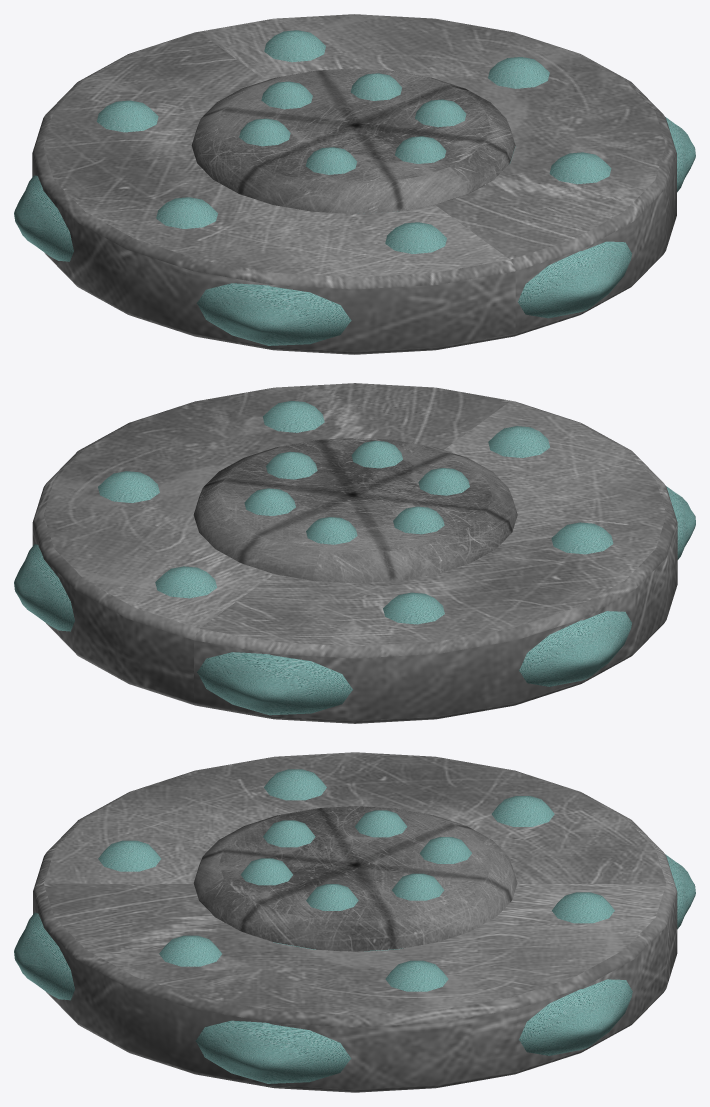
The model's file is Disc_4.FBX.
3 renders of one model, top to bottom at view 1: azimuth 30°, elevation 25°; view 2: azimuth 150°, elevation 25°; view 3: azimuth 270°, elevation 25°, orthographic.
Visible parts, largest first — view 1: Outer_Disc, Inner_Disc, Outer_Lamp_011, Outer_Lamp_010, Outer_Lamp_012, Top_Lamp_015, Top_Lamp_016, Top_Lamp_017, Top_Lamp_018, Top_Lamp_013, Top_Lamp_014, Top_Lamp_022 (+6 smaller); view 2: Outer_Disc, Inner_Disc, Outer_Lamp_015, Outer_Lamp_012, Outer_Lamp_014, Top_Lamp_014, Top_Lamp_017, Top_Lamp_013, Top_Lamp_015, Top_Lamp_018, Top_Lamp_016, Top_Lamp_021 (+6 smaller); view 3: Outer_Disc, Inner_Disc, Outer_Lamp_013, Outer_Lamp_014, Outer_Lamp_010, Top_Lamp_014, Top_Lamp_013, Top_Lamp_018, Top_Lamp_016, Top_Lamp_017, Top_Lamp_015, Top_Lamp_020 (+6 smaller).
Boxes of the visible parts, x1,y1,x2,y2 form: Outer_Disc: (32, 14, 676, 354); Inner_Disc: (191, 68, 515, 213); Outer_Lamp_011: (196, 283, 351, 345); Outer_Lamp_010: (517, 241, 632, 318); Outer_Lamp_012: (14, 175, 73, 261); Top_Lamp_015: (96, 100, 158, 132); Top_Lamp_016: (264, 30, 325, 62); Top_Lamp_017: (488, 57, 549, 88); Top_Lamp_018: (549, 152, 611, 184); Top_Lamp_013: (385, 222, 446, 253); Top_Lamp_014: (156, 197, 217, 228); Top_Lamp_022: (239, 118, 290, 146); Outer_Disc: (32, 383, 677, 723); Inner_Disc: (193, 437, 517, 583); Outer_Lamp_015: (197, 652, 352, 715); Outer_Lamp_012: (519, 611, 631, 686); Outer_Lamp_014: (14, 544, 74, 631); Top_Lamp_014: (551, 522, 613, 554); Top_Lamp_017: (98, 471, 159, 502); Top_Lamp_013: (488, 426, 549, 457); Top_Lamp_015: (383, 592, 444, 624); Top_Lamp_018: (263, 401, 324, 432); Top_Lamp_016: (155, 566, 216, 598); Top_Lamp_021: (266, 451, 317, 479); Outer_Disc: (33, 752, 677, 1092); Inner_Disc: (193, 806, 517, 951); Outer_Lamp_013: (195, 1020, 351, 1083); Outer_Lamp_014: (519, 979, 632, 1055); Outer_Lamp_010: (14, 912, 74, 1000); Top_Lamp_014: (264, 769, 326, 800); Top_Lamp_013: (98, 840, 160, 871); Top_Lamp_018: (159, 935, 221, 966); Top_Lamp_016: (552, 892, 614, 923); Top_Lamp_017: (385, 960, 448, 991); Top_Lamp_015: (491, 796, 554, 826); Top_Lamp_020: (392, 873, 444, 900).
Size of the model in its own units: 1.58 by 0.3792 by 1.59.
Materials: 3 (3 with a texture image).
